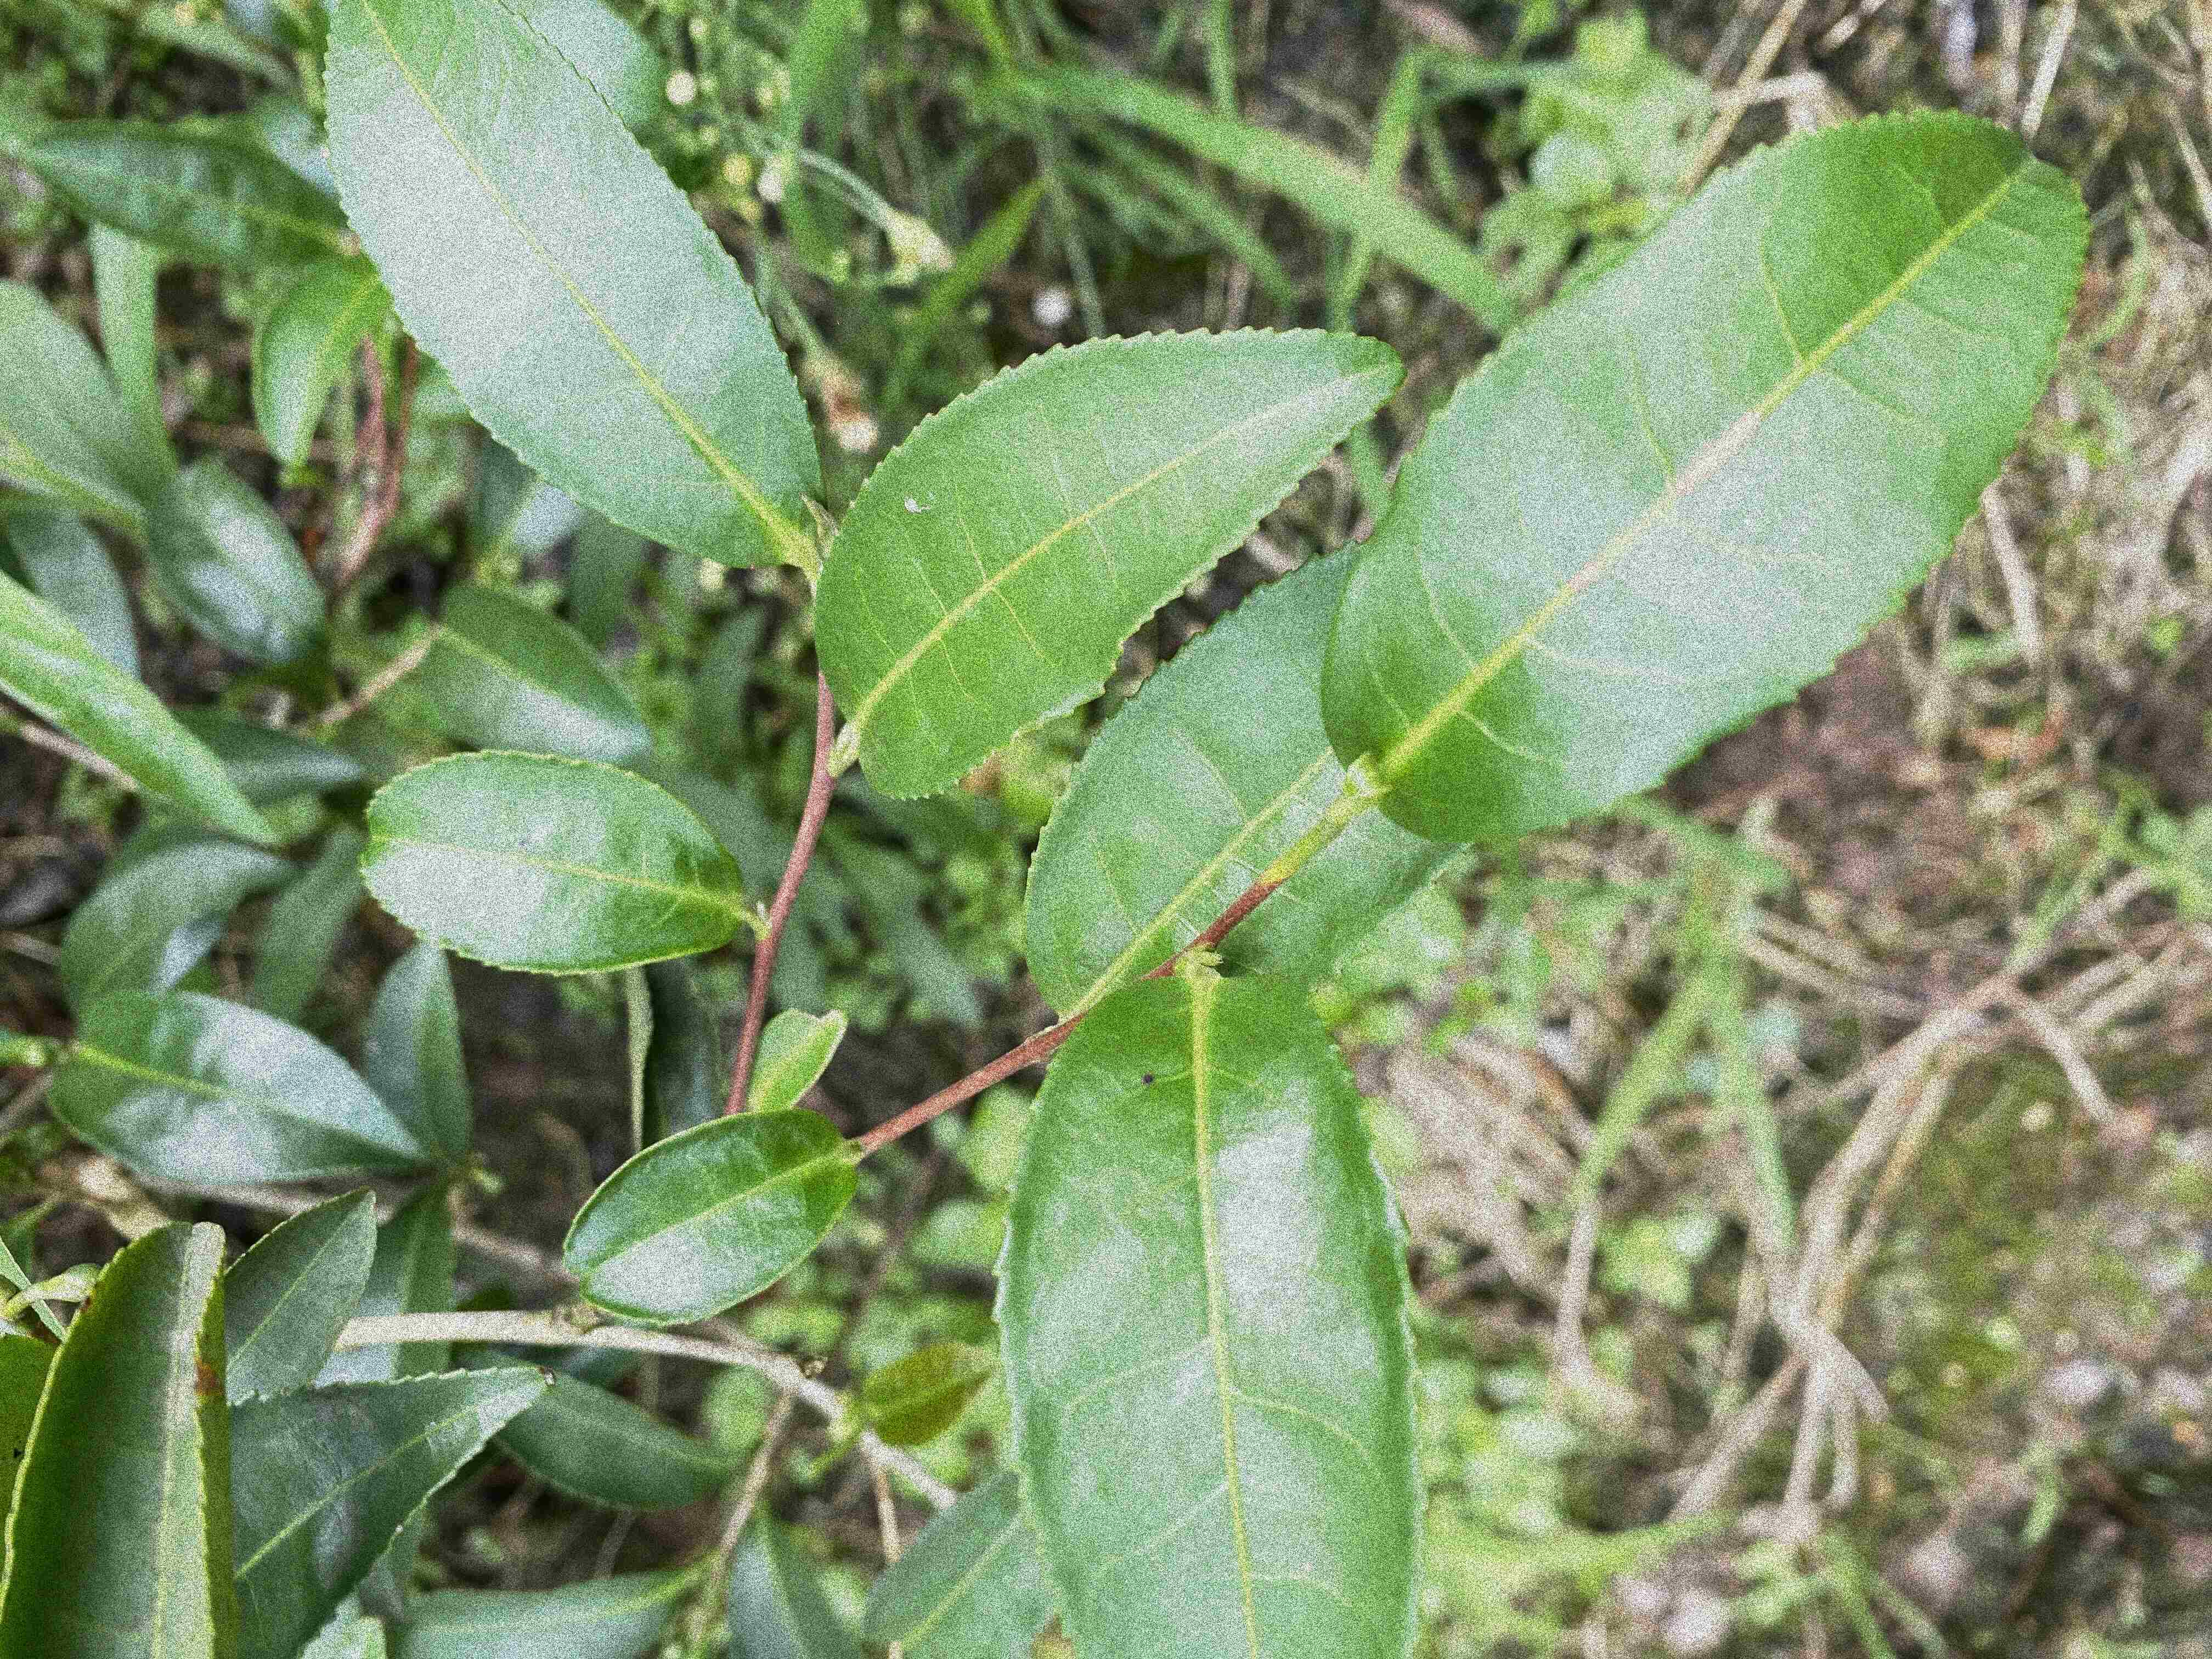healthy: (1324, 115, 2095, 845), (989, 974, 1426, 1656), (320, 3, 827, 568), (810, 328, 1407, 796), (1014, 552, 1479, 1019), (355, 751, 745, 976), (54, 990, 432, 1185), (564, 1101, 857, 1324)
